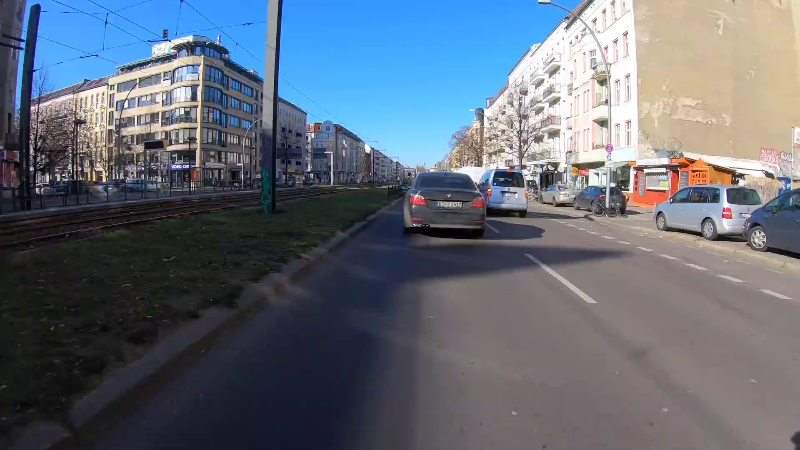Plate: (435, 199, 463, 209), (500, 191, 515, 198), (738, 212, 751, 216)
